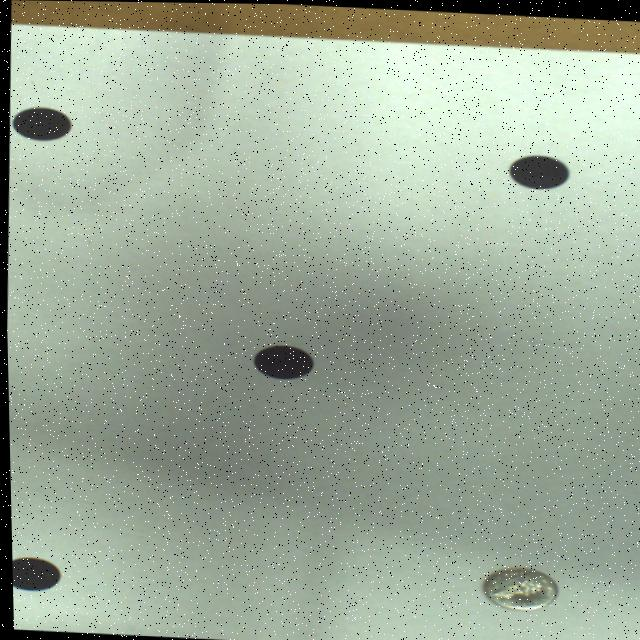space: (251, 343, 312, 377), (11, 105, 70, 139), (510, 152, 566, 186), (10, 556, 57, 590)
tail1bath: (480, 565, 554, 607)
